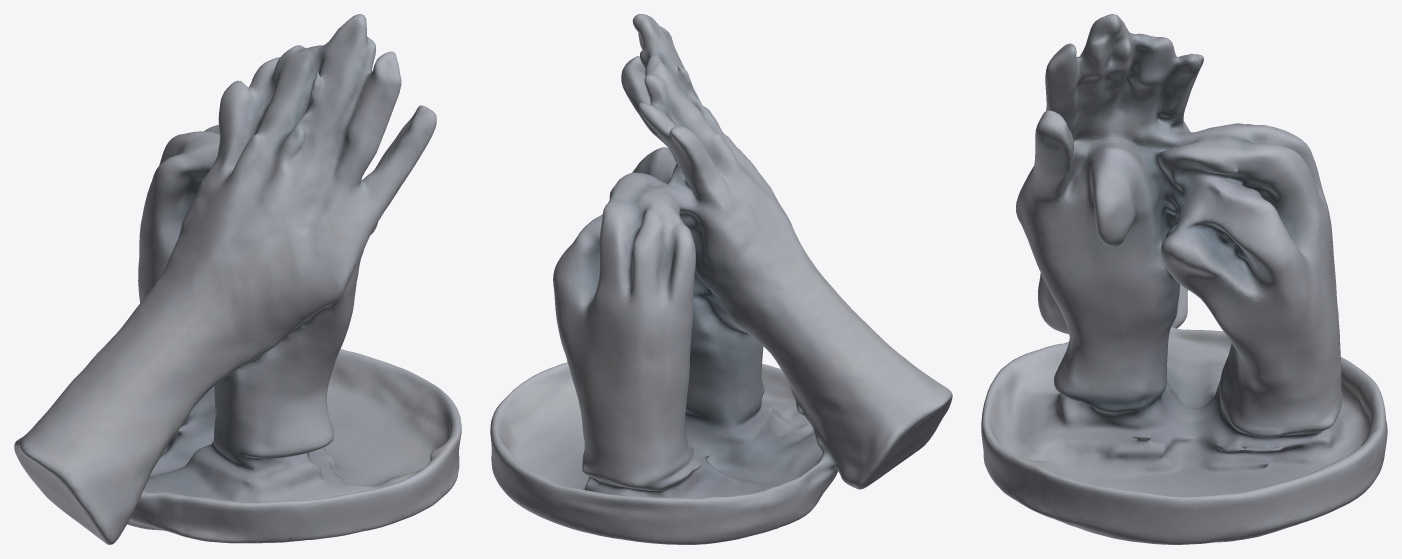
File: eb7cfcce7b23_sculpture_hands__3d.fbx
3 views of the same model, side by side, from view 1: azimuth 30°, elevation 25°; view 2: azimuth 150°, elevation 25°; view 3: azimuth 270°, elevation 25° (orthographic). The views are drawn at different scales.
Visible parts, largest first — view 1: high_poly; view 2: high_poly; view 3: high_poly.
Boxes of the visible parts, x1=… form: high_poly: x1=14, y1=14, x2=461, y2=544; high_poly: x1=490, y1=14, x2=952, y2=544; high_poly: x1=981, y1=14, x2=1387, y2=544.
Bounding box in the file's own units: 98.7 × 100 × 76.35.
